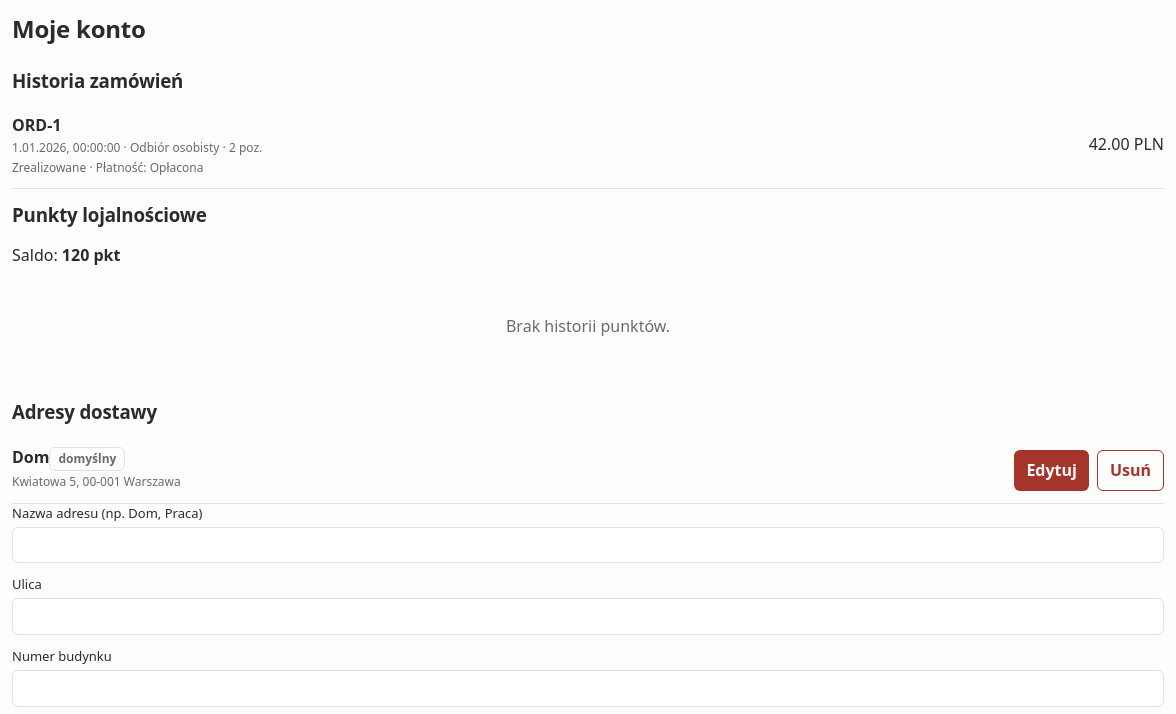
Test: MyAccountPage › shows an API error and keeps the entry when removing an address fails
Expected: the text "Dom" is shown, [12,446,50,468]
Click the button "Usuń" at (1130, 470), box [1097,450,1164,491]
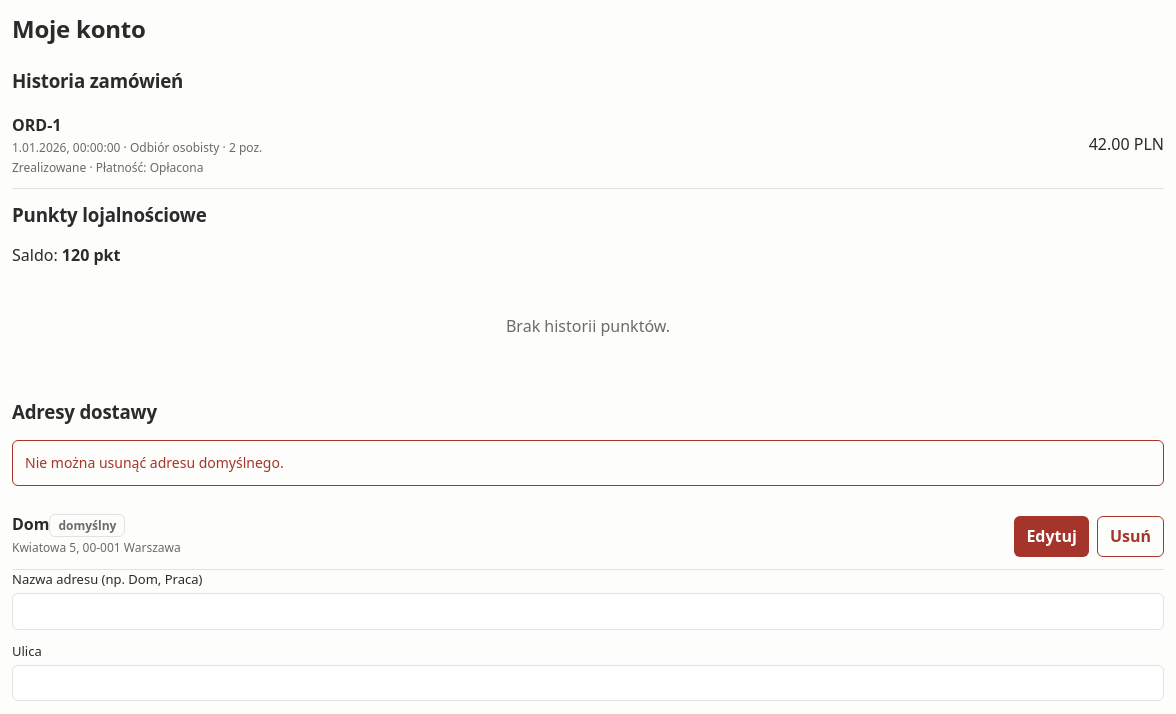
Expected: the text "Dom" is shown, [12,513,50,535]
Now the text "Nie można usunąć adresu domyślnego." is shown, box [12,440,1164,486]
